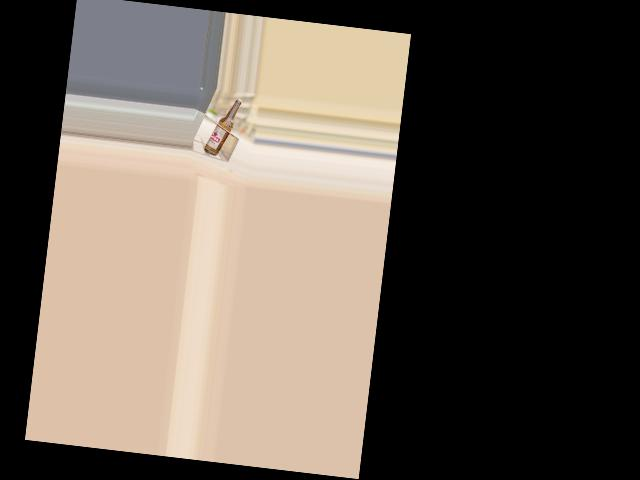beer: (202, 95, 242, 158)
